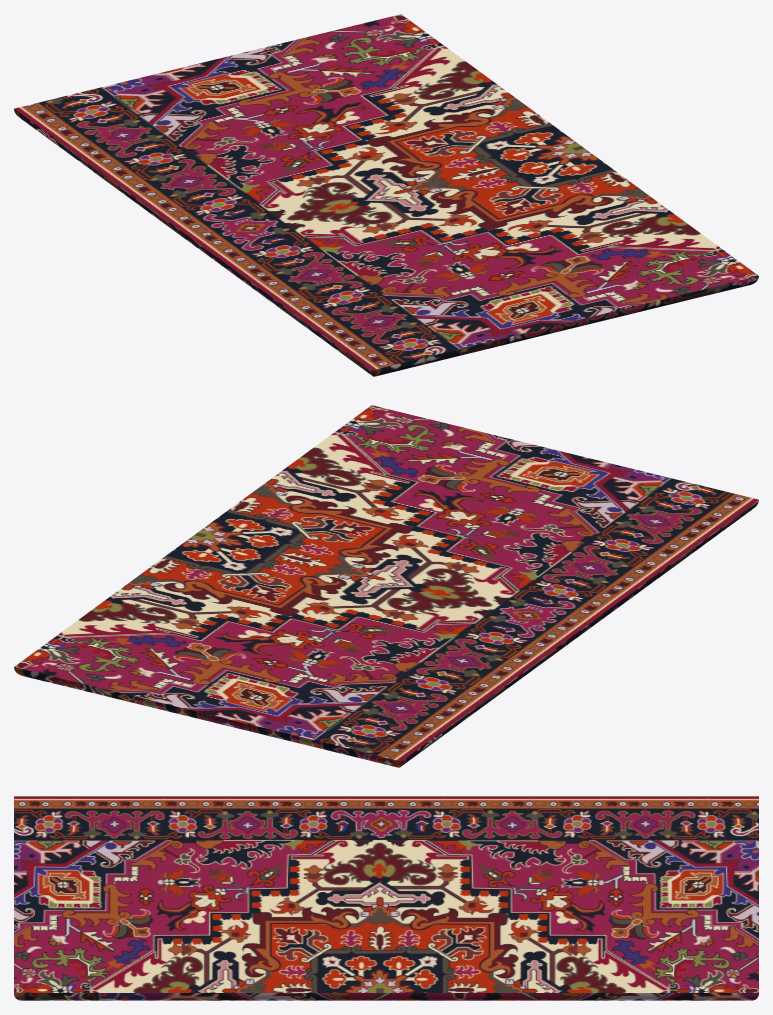
3 renders of one model, top to bottom at view 1: azimuth 30°, elevation 25°; view 2: azimuth 150°, elevation 25°; view 3: azimuth 270°, elevation 25°, orthographic. The views are drawn at different scales.
Parts seen in each view (by area): view 1: Object_3.003_Baked; view 2: Object_3.003_Baked; view 3: Object_3.003_Baked.
Boxes of the visible parts, <box> form: Object_3.003_Baked: <box>14,14,758,376</box>; Object_3.003_Baked: <box>14,405,758,767</box>; Object_3.003_Baked: <box>14,796,758,1000</box>.
Size of the model in its own units: 107 by 3.05 by 171.
1 material, 1 textured.
